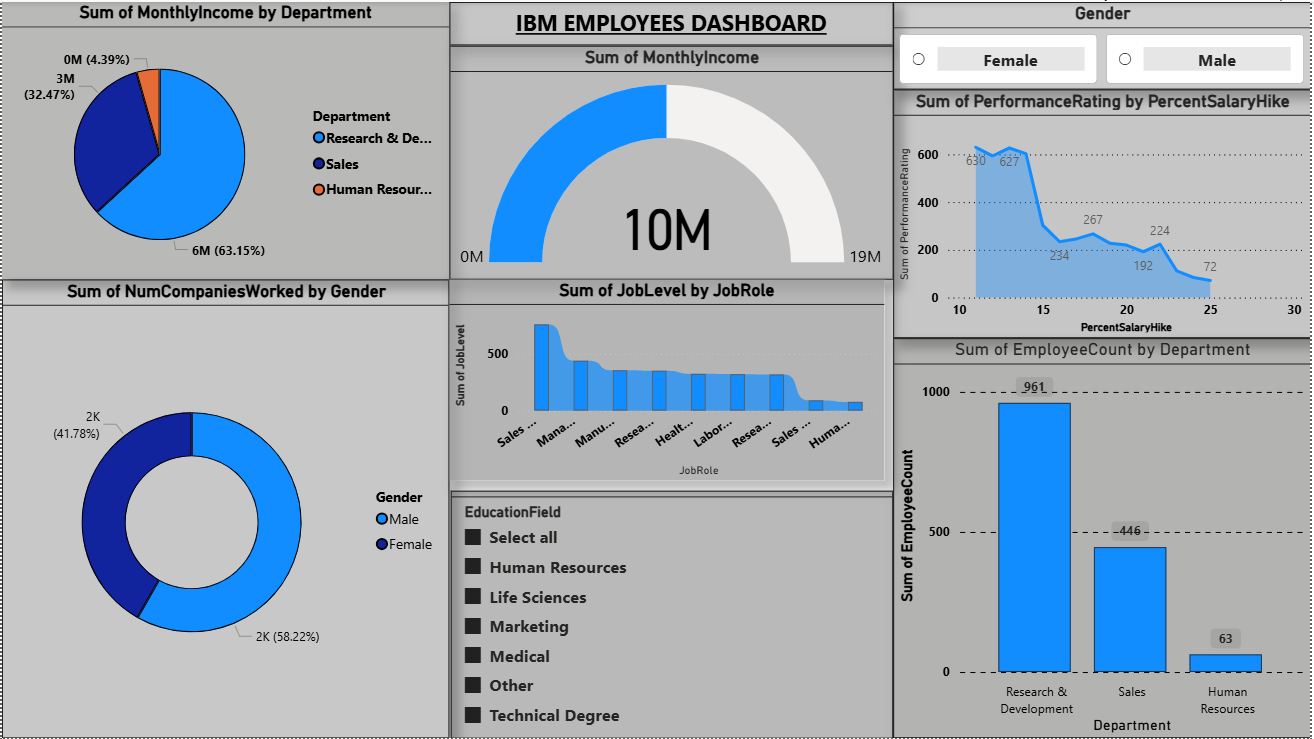

The page's visual inventory and layout, read from the dashboard file:
{"tool":"powerbi","page":{"name":"Page 1","canvas":[1280,720],"ordinal":0},"visuals":[{"type":"clusteredColumnChart","fields":{"Category":["IBM data.Department"],"Y":["Sum(IBM data.EmployeeCount)"]},"box":[871.9,328.9,408.4,391.3],"z":0},{"type":"pieChart","fields":{"Category":["IBM data.Department"],"Y":["Sum(IBM data.MonthlyIncome)"]},"box":[0,0,437.8,271.5],"z":1000},{"type":"donutChart","fields":{"Category":["IBM data.Gender"],"Y":["Sum(IBM data.NumCompaniesWorked)"]},"box":[0,271.5,437.8,448.8],"z":2000},{"type":"slicer","fields":{"Values":["IBM data.EducationField"]},"box":[439,478.1,432.9,242.1],"z":3000},{"type":"areaChart","fields":{"Category":["IBM data.PercentSalaryHike"],"Y":["Sum(IBM data.PerformanceRating)"]},"box":[871.9,85.6,408.4,243.3],"z":4000},{"type":"textbox","box":[437.8,0,434.1,42.8],"z":5000},{"type":"gauge","fields":{"Y":["Sum(IBM data.MonthlyIncome)"]},"box":[437.8,42.8,434.1,228.7],"z":6000},{"type":"ribbonChart","fields":{"Y":["Sum(IBM data.JobLevel)"],"Category":["IBM data.JobRole"]},"box":[437.8,271.5,434.1,206.7],"z":7000},{"type":"advancedSlicerVisual","fields":{"Values":["IBM data.Gender"]},"box":[871.9,0,408.4,85.6],"z":8000}]}

Visuals, with their boxes in screenshot pixels (x1, y1, x2, y2), scaled from the page's 1280x720 canvas onto the 1314x739 screenshot:
clusteredColumnChart - IBM data.Department x Sum(IBM data.EmployeeCount): detection(895, 338, 1313, 738)
pieChart - IBM data.Department x Sum(IBM data.MonthlyIncome): detection(0, 0, 449, 279)
donutChart - IBM data.Gender x Sum(IBM data.NumCompaniesWorked): detection(0, 279, 449, 738)
slicer - IBM data.EducationField: detection(451, 491, 895, 738)
areaChart - IBM data.PercentSalaryHike x Sum(IBM data.PerformanceRating): detection(895, 88, 1313, 338)
textbox: detection(449, 0, 895, 44)
gauge - Sum(IBM data.MonthlyIncome): detection(449, 44, 895, 279)
ribbonChart - Sum(IBM data.JobLevel) x IBM data.JobRole: detection(449, 279, 895, 491)
advancedSlicerVisual - IBM data.Gender: detection(895, 0, 1313, 88)
